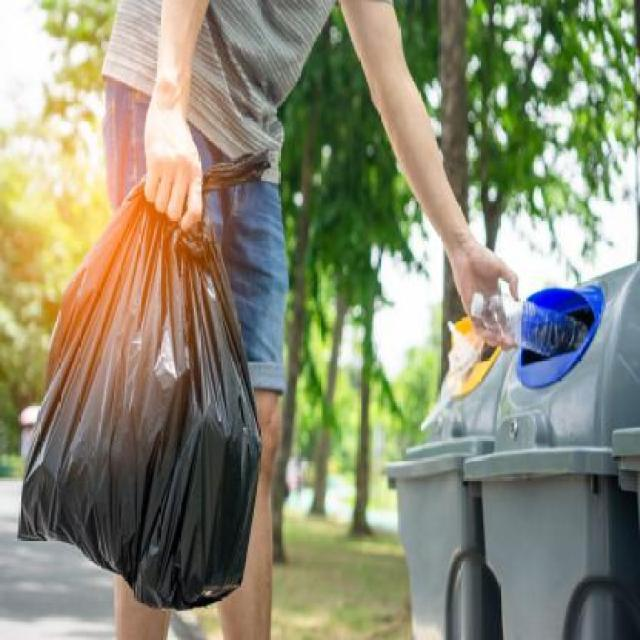garbage container: (465, 283, 640, 640), (377, 305, 525, 640)
